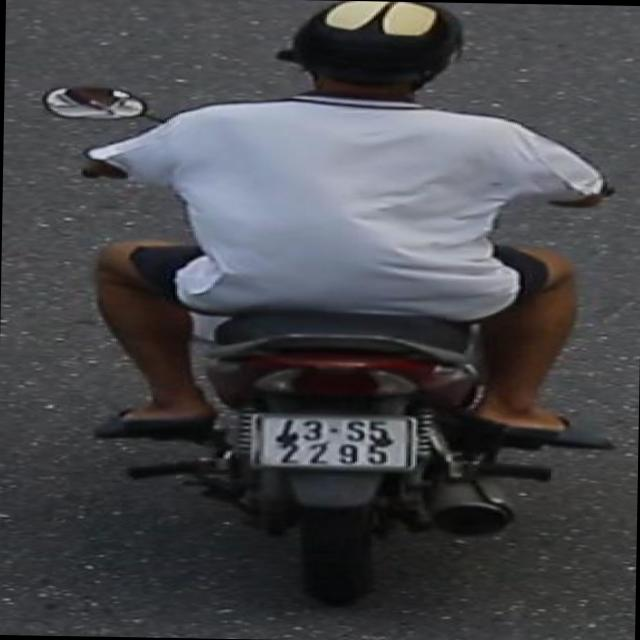LP: (248, 406, 426, 472)
helmet: (274, 1, 470, 116)
